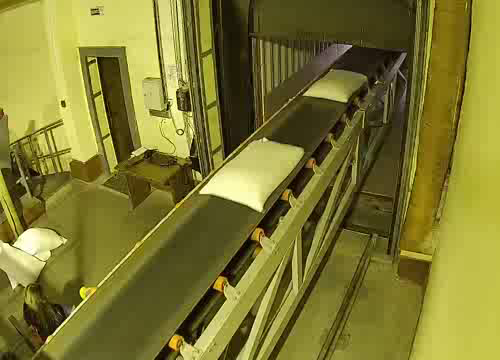bag: (195, 129, 305, 219), (298, 63, 376, 104)
